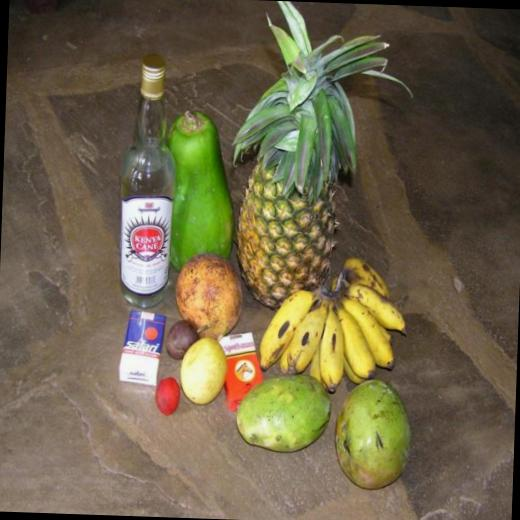Mango: (224, 0, 414, 312)
